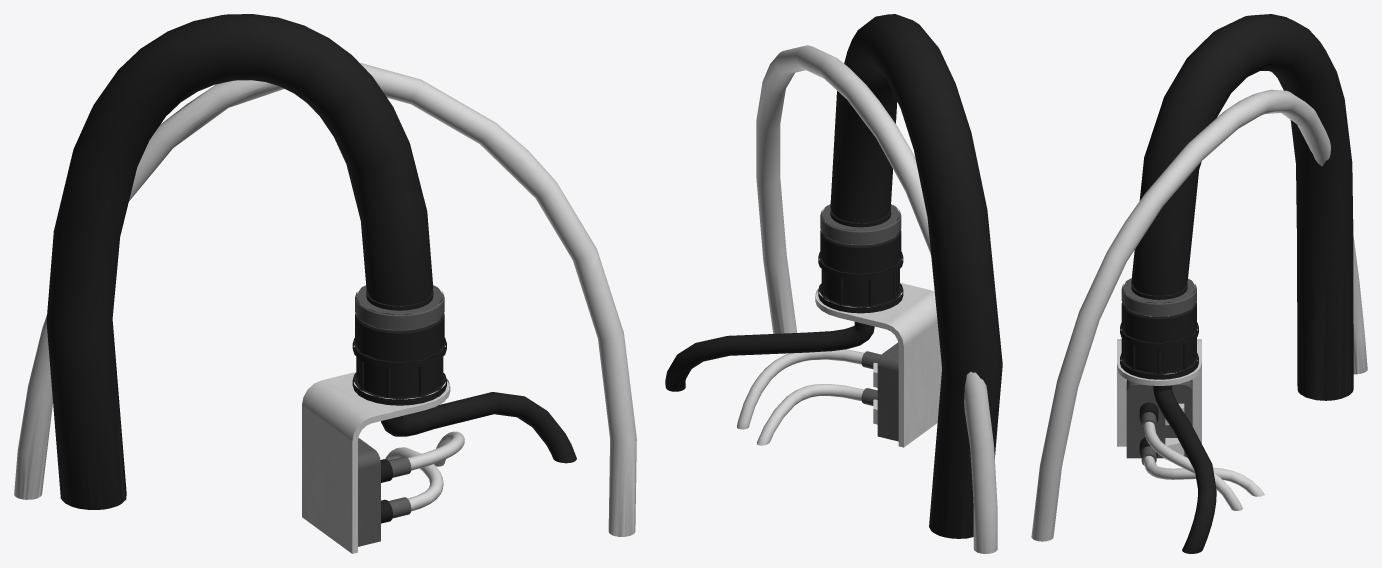
Rendered from TightenerStation_Cube12.glb.
3 views of the same model, side by side, from view 1: azimuth 30°, elevation 25°; view 2: azimuth 150°, elevation 25°; view 3: azimuth 270°, elevation 25° (orthographic). The views are drawn at different scales.
Parts seen in each view (by area): view 1: color-2.003; view 2: color-2.003; view 3: color-2.003.
Boxes of the visible parts, box(x1,y1,x2,y2) form: color-2.003: box(14, 14, 636, 553); color-2.003: box(665, 14, 1002, 553); color-2.003: box(1031, 14, 1367, 553).
Bounding box in the file's own units: 0.2378 × 0.2408 × 0.1784.
3 materials, 3 textured.
